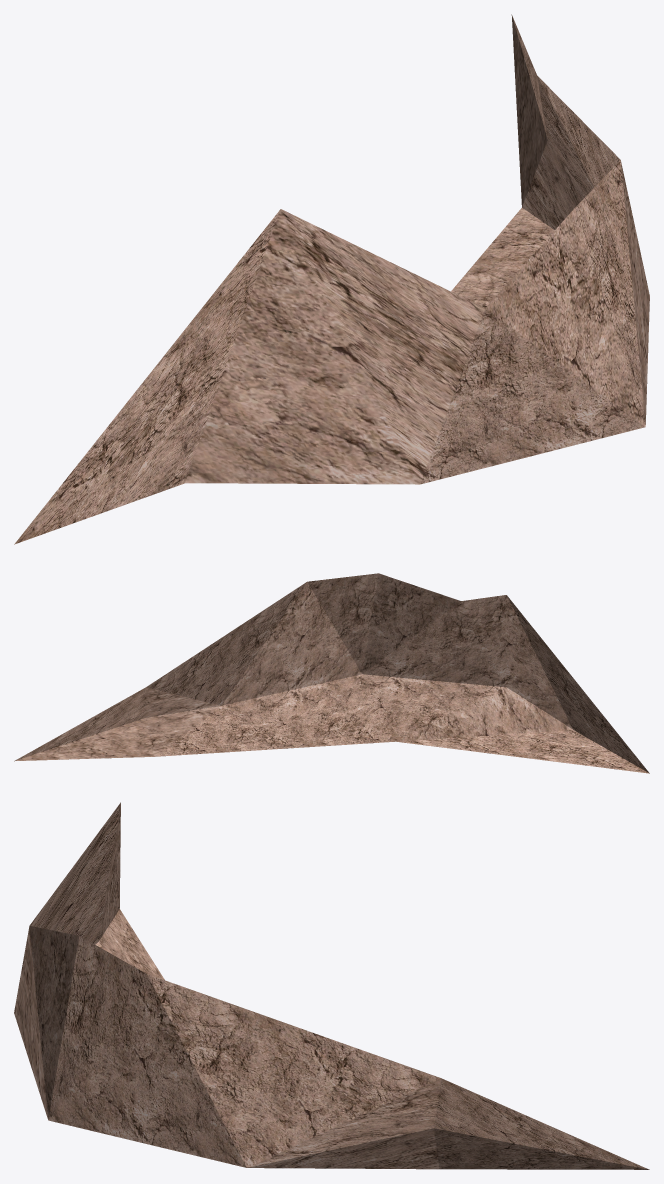
Rendered from des_quarrycut.obj.
The picture shows the model from 3 angles, top to bottom: view 1: azimuth 30°, elevation 25°; view 2: azimuth 150°, elevation 25°; view 3: azimuth 270°, elevation 25°; orthographic projection. The views are drawn at different scales.
Parts seen in each view (by area): view 1: des_quarrycut; view 2: des_quarrycut; view 3: des_quarrycut.
Boxes of the visible parts, box(x1,y1,x2,y2) form: des_quarrycut: box(14, 14, 649, 544); des_quarrycut: box(14, 573, 649, 773); des_quarrycut: box(14, 802, 649, 1169).
Size of the model in its own units: 30.54 by 9.34 by 26.04.
Materials: 1 (1 with a texture image).
